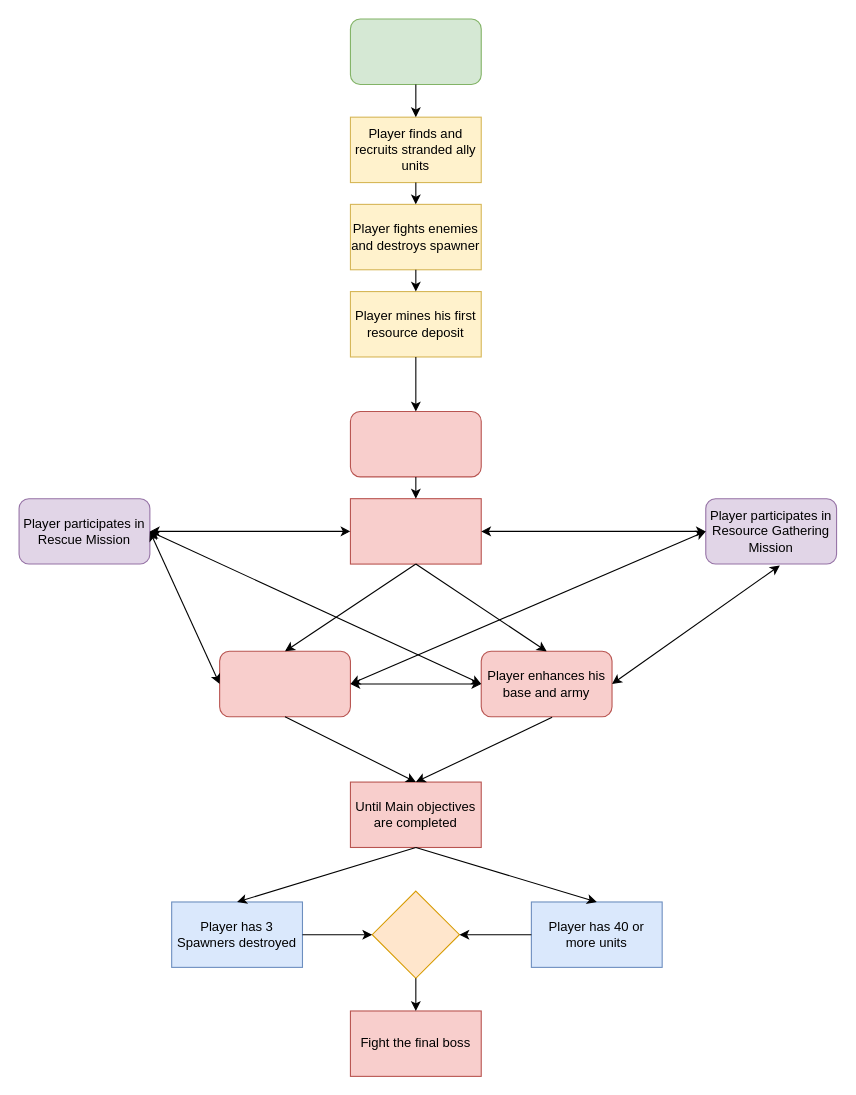
Some shapes in this 856 by 1095 pixel diagram are drawn without their labels. Here are the shapes that lost their labels. From the top down, the box of each, then its label:
(349, 18, 481, 84): Player reaches event site
(349, 410, 481, 477): Player builds Command Center and Barracks
(349, 498, 481, 564): Player starts building units
(219, 650, 350, 717): Player defends his base from hordes
(371, 890, 459, 978): So he can
